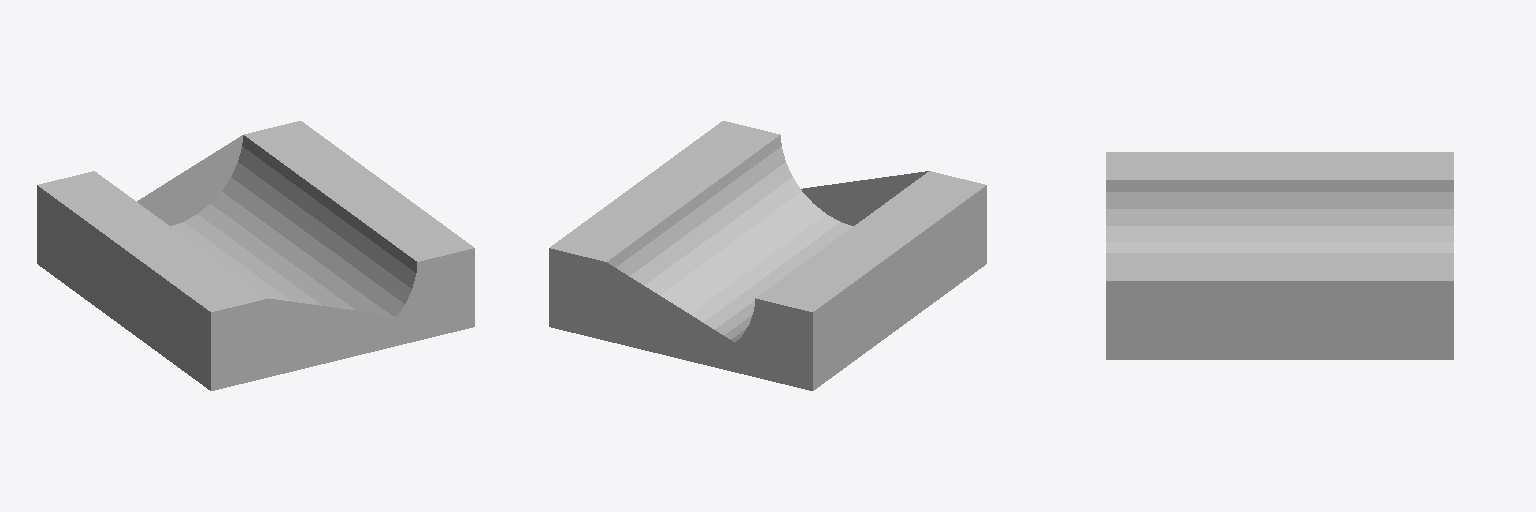
File: halfpipe 1.obj
The picture shows the model from 3 angles: view 1: azimuth 30°, elevation 25°; view 2: azimuth 150°, elevation 25°; view 3: azimuth 270°, elevation 25°; orthographic projection.
Parts seen in each view (by area): view 1: Cube_Cube.001; view 2: Cube_Cube.001; view 3: Cube_Cube.001.
Part boxes in pixels (x1,y1,x2,y2): Cube_Cube.001: (37, 121, 474, 390); Cube_Cube.001: (549, 121, 986, 390); Cube_Cube.001: (1106, 152, 1453, 359).
Bounding box in the file's own units: 14 × 4 × 16.